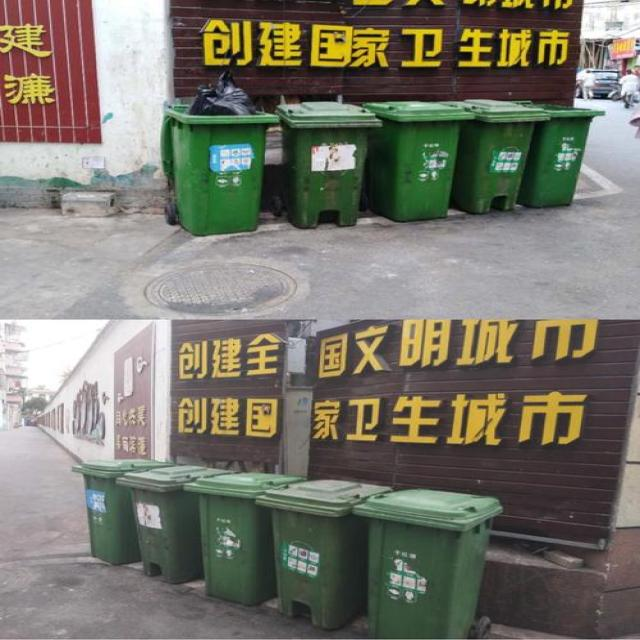garbage_bin: (349, 488, 502, 639), (254, 478, 391, 630), (182, 471, 304, 604), (117, 464, 238, 583), (361, 98, 472, 222), (275, 102, 380, 227), (443, 99, 549, 212), (70, 458, 170, 564), (517, 103, 606, 208)
overflow: (161, 73, 279, 235)
